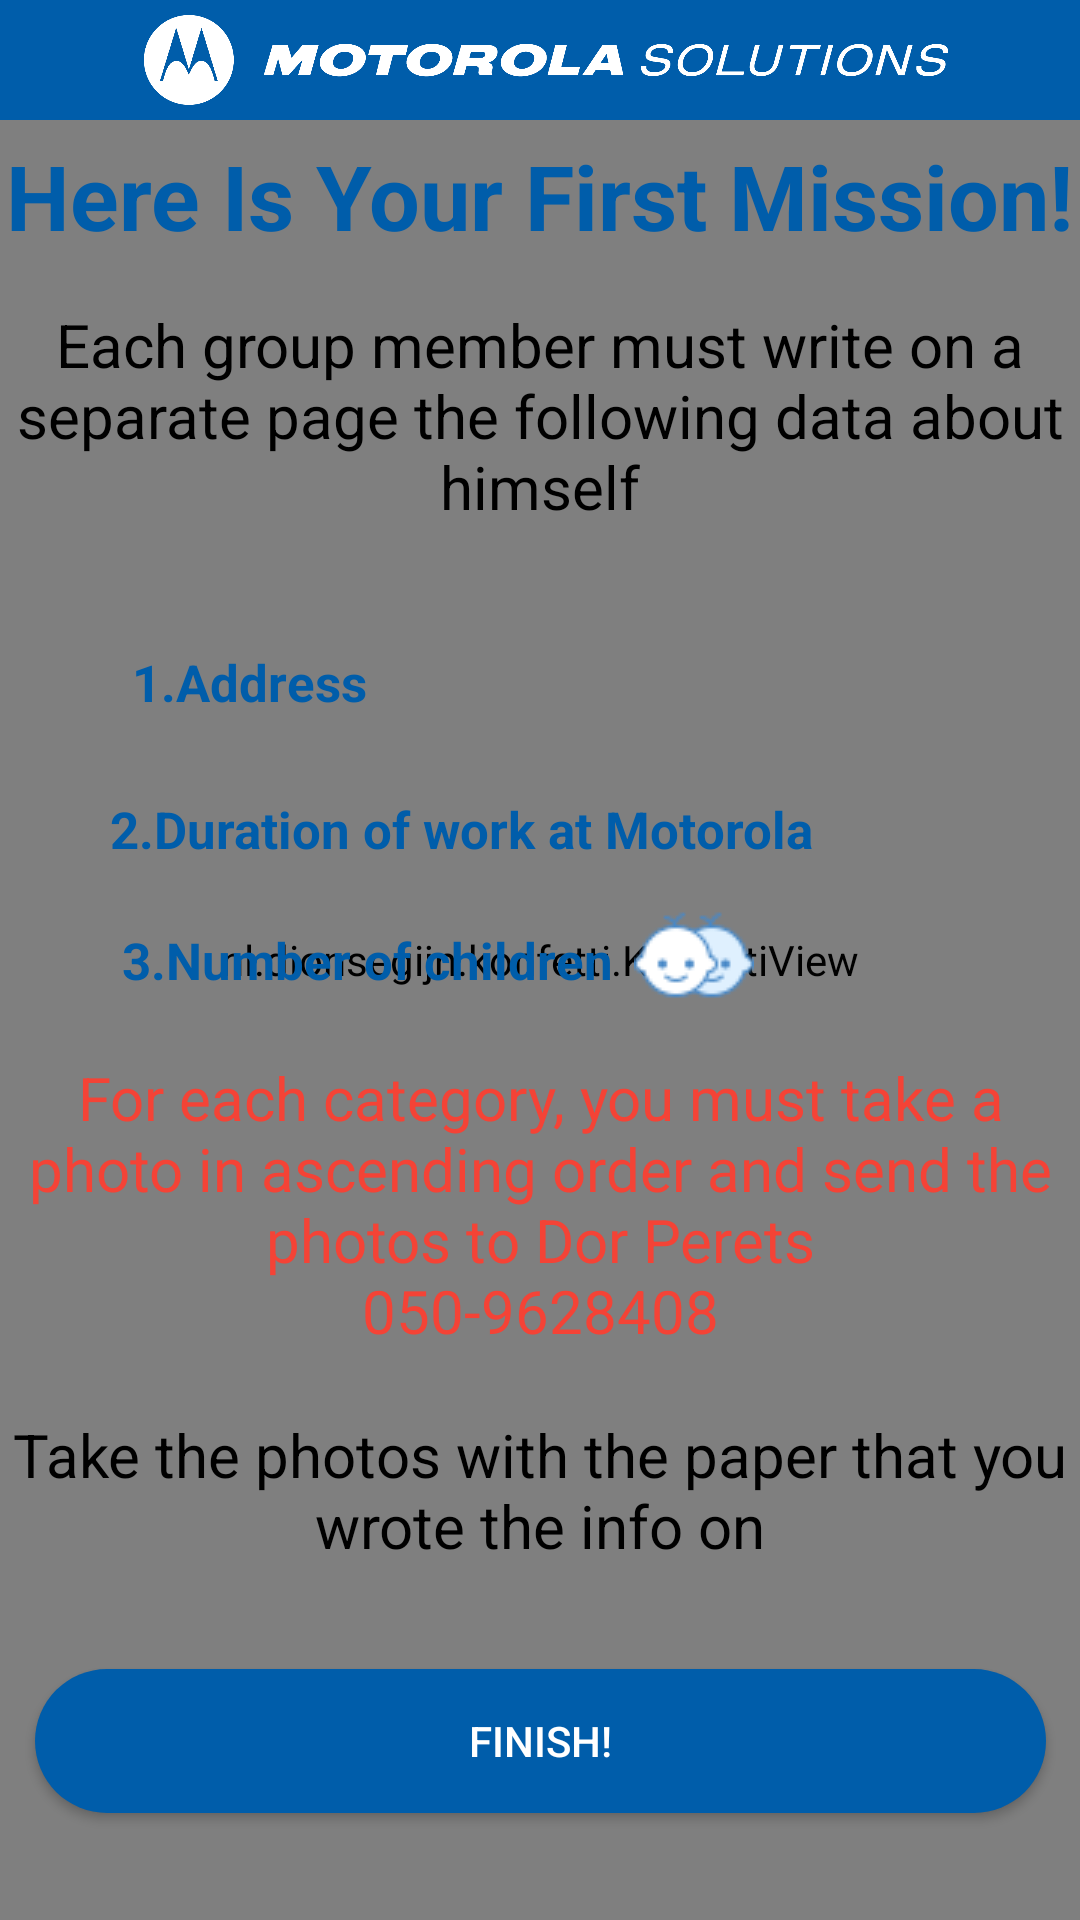

Icons on this 1080w x 1920h Android screen, each with its box as (x1, y1, x2, y2):
baby: (634, 913, 754, 998)
